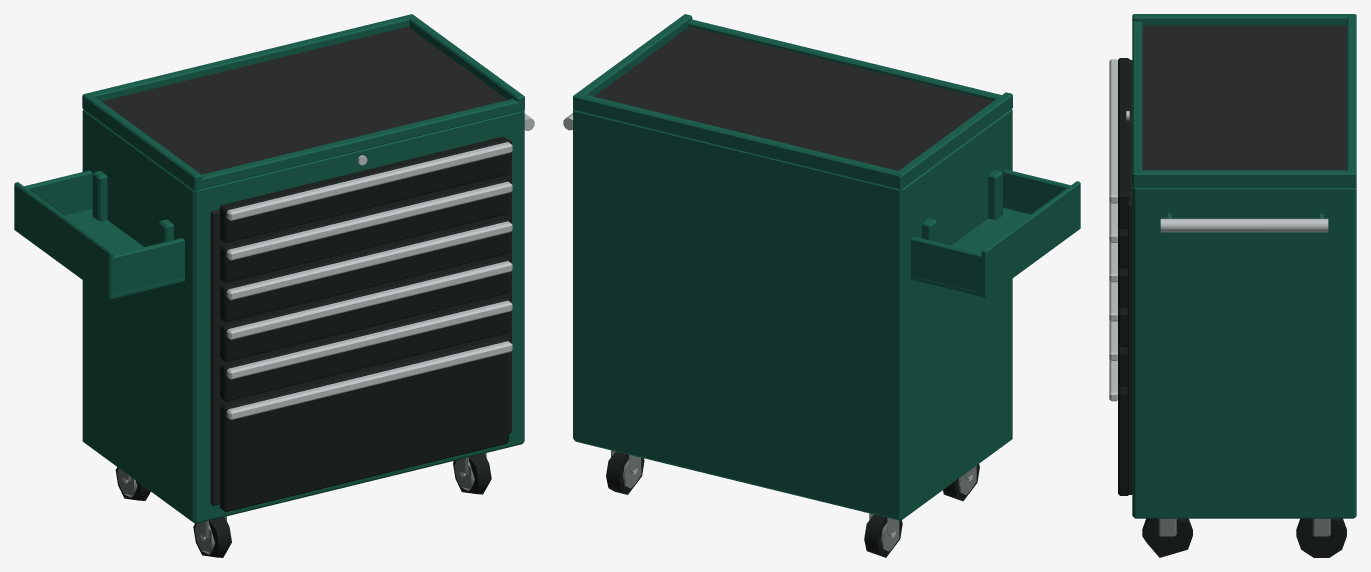
The picture shows the model from 3 angles, left to right: view 1: azimuth 30°, elevation 25°; view 2: azimuth 150°, elevation 25°; view 3: azimuth 270°, elevation 25°; orthographic projection.
Parts seen in each view (by area): view 1: Green enclosed cabinet body, Shallow black drawer 01, Rubber top work mat, Aluminium full width pull 01, Black recessed drawer surround, Caster grey outer hub; view 2: Green enclosed cabinet body, Rubber top work mat, Shallow black drawer 01, Caster grey outer hub; view 3: Green enclosed cabinet body, Rubber top work mat, Shallow black drawer 01, Aluminium full width pull 01, Black recessed drawer surround, Caster grey outer hub.
Boxes of the visible parts, x1,y1,x2,y2 form: Green enclosed cabinet body: (14,14,524,523); Shallow black drawer 01: (115,136,508,557); Rubber top work mat: (101,26,507,174); Aluminium full width pull 01: (122,113,534,540); Black recessed drawer surround: (210,139,511,505); Caster grey outer hub: (117,453,486,554); Green enclosed cabinet body: (573,14,1080,520); Rubber top work mat: (594,26,993,170); Shallow black drawer 01: (606,451,979,557); Caster grey outer hub: (611,450,976,551); Green enclosed cabinet body: (1132,14,1356,518); Rubber top work mat: (1142,25,1346,170); Shallow black drawer 01: (1118,58,1346,557); Aluminium full width pull 01: (1109,59,1328,401); Black recessed drawer surround: (1127,60,1132,494); Caster grey outer hub: (1158,518,1330,536).
Size of the model in its own units: 1.01 by 0.9015 by 0.5075.
